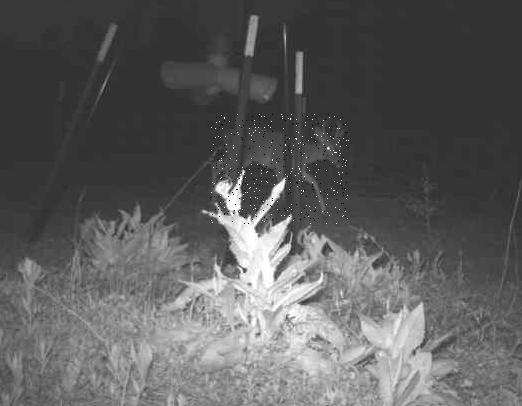Deer: (210, 114, 349, 224)
